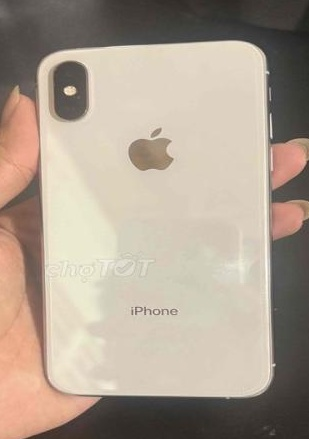scratch: (83, 105, 99, 119), (45, 65, 68, 74), (47, 80, 59, 91)
